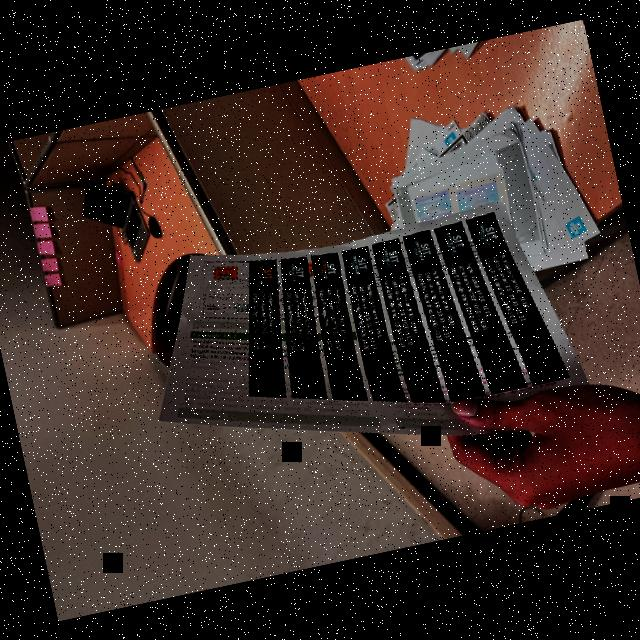reuseable_paper: (116, 173, 602, 507), (355, 80, 604, 308)
